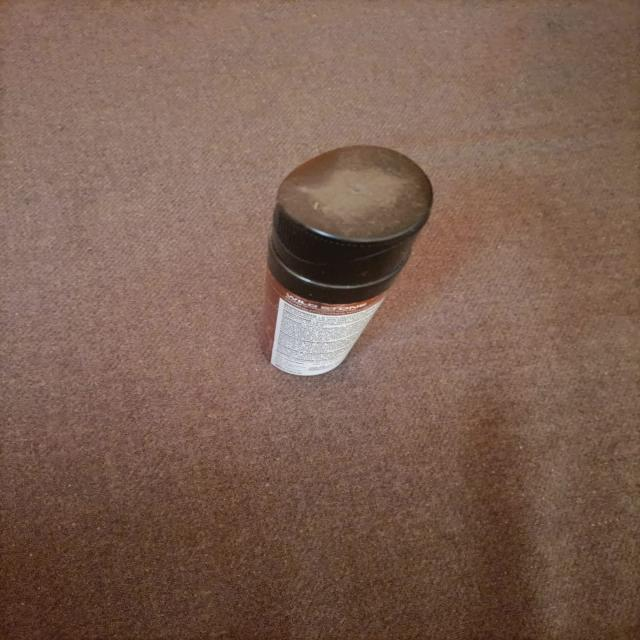spray: (249, 115, 471, 414)
